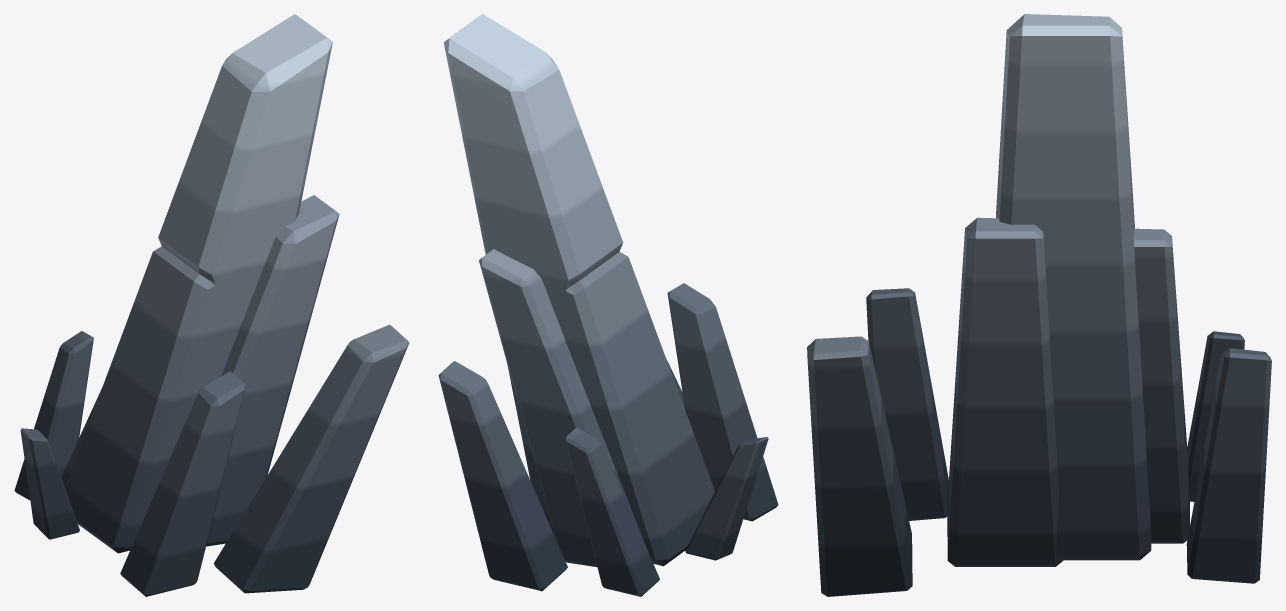
File: rock_008.fbx
The picture shows the model from 3 angles, left to right: view 1: azimuth 30°, elevation 25°; view 2: azimuth 150°, elevation 25°; view 3: azimuth 270°, elevation 25°; orthographic projection. The views are drawn at different scales.
Visible parts, largest first — view 1: rock.008; view 2: rock.008; view 3: rock.008.
Part boxes in pixels (bbox=[...]): rock.008: bbox=[14, 14, 409, 596]; rock.008: bbox=[438, 14, 778, 596]; rock.008: bbox=[807, 14, 1271, 596].
Size of the model in its own units: 45.75 by 70.51 by 46.84.
